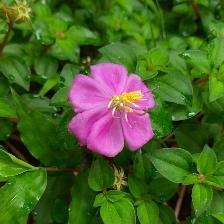malabar melastome: (64, 62, 161, 159)
